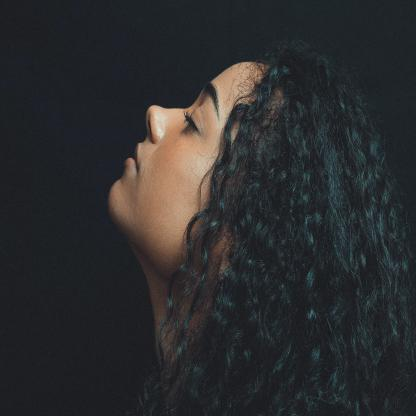Eye: (183, 107, 204, 136)
Mouth: (125, 143, 141, 175)
Nose: (146, 105, 182, 144)
